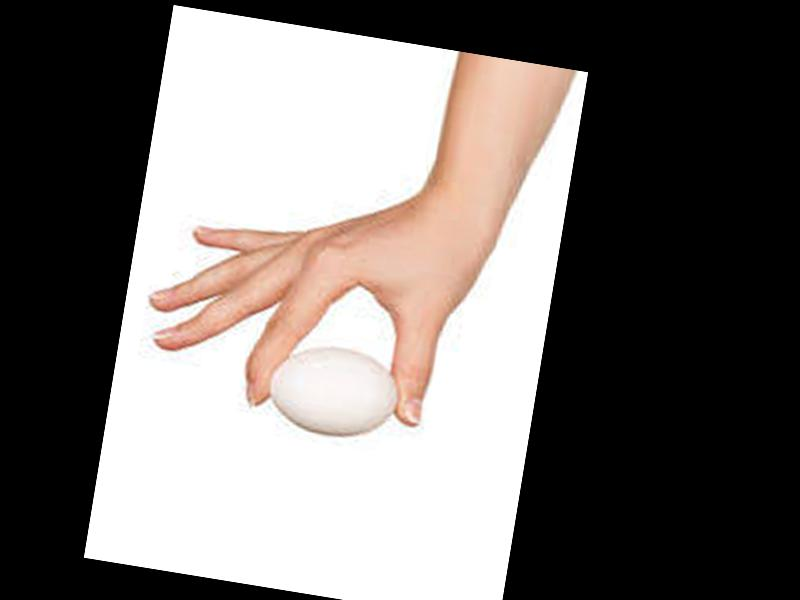Eggs: (262, 337, 403, 447)
